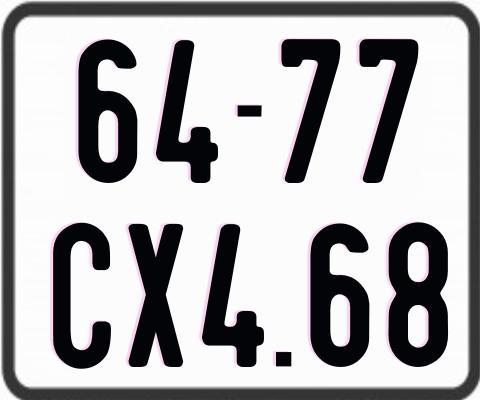4: (155, 40, 218, 189), (201, 222, 264, 371)
6: (75, 37, 138, 186), (309, 223, 370, 368)
7: (356, 36, 419, 180), (281, 38, 341, 186)
8: (386, 219, 446, 369)
C: (50, 222, 108, 374)
X: (126, 224, 186, 369)
